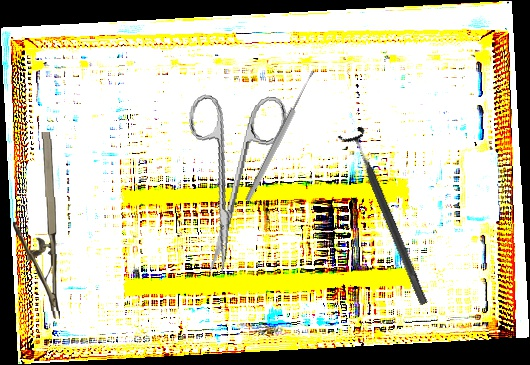Fixation Ring: (336, 125, 438, 310)
Iris Scissors: (165, 84, 290, 281)
Needle Holder: (11, 131, 60, 320)
Surgical Spoon: (244, 69, 317, 203)
